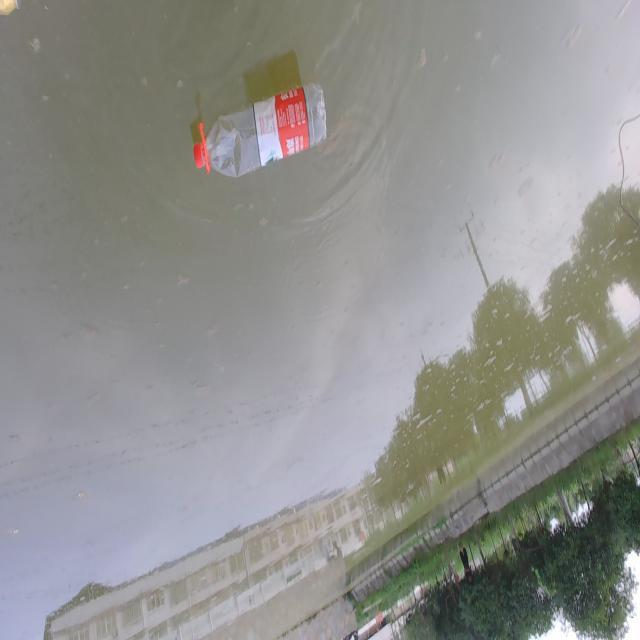garbage: (192, 80, 328, 177)
